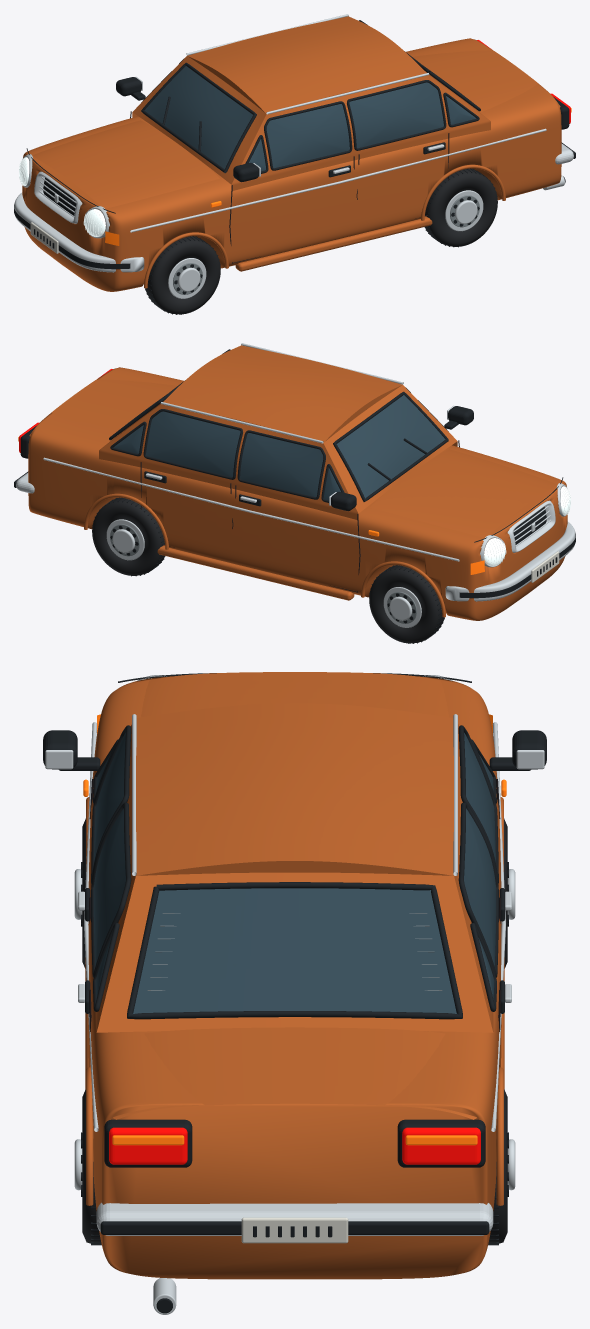
Rendered from moskvich.glb.
The picture shows the model from 3 angles, top to bottom: view 1: azimuth 30°, elevation 25°; view 2: azimuth 150°, elevation 25°; view 3: azimuth 270°, elevation 25°; orthographic projection. The views are drawn at different scales.
Parts seen in each view (by area): view 1: Body_Paint_moskvich, Body_Curved smoked glass.008, Body_Black trim.008, Body_Machined aluminium.008, Wheel_FR_Tyre.008, Wheel_RR_Tyre.008, StockBumpers_Machined aluminium.008, StockSkirts_Paint_moskvich, StockFenders_Paint_moskvich, Wheel_FR_Machined aluminium.008, Wheel_RR_Machined aluminium.008, Body_Prismatic headlight glass.008 (+1 smaller); view 2: Body_Paint_moskvich, Body_Curved smoked glass.008, Body_Black trim.008, Body_Machined aluminium.008, Wheel_FL_Tyre.008, Wheel_RL_Tyre.008, StockBumpers_Machined aluminium.008, StockSkirts_Paint_moskvich, StockFenders_Paint_moskvich, Wheel_FL_Machined aluminium.008, Wheel_RL_Machined aluminium.008, Body_Prismatic headlight glass.008 (+1 smaller); view 3: Body_Paint_moskvich, Body_Curved smoked glass.008, Body_Black trim.008, StockBumpers_Machined aluminium.008, Body_Machined aluminium.008, Body_Red lens.008, StockBumpers_Black trim.008, Body_Numberplate.008, StockFenders_Paint_moskvich, Body_Amber lens.008, Wheel_RR_Tyre.008, Wheel_RL_Tyre.008.
Boxes of the visible parts, x1=… form: Body_Paint_moskvich: x1=22, y1=16, x2=561, y2=291; Body_Curved smoked glass.008: x1=144, y1=66, x2=476, y2=171; Body_Black trim.008: x1=26, y1=20, x2=569, y2=248; Body_Machined aluminium.008: x1=22, y1=14, x2=564, y2=238; Wheel_FR_Tyre.008: x1=145, y1=236, x2=220, y2=314; Wheel_RR_Tyre.008: x1=425, y1=168, x2=497, y2=246; StockBumpers_Machined aluminium.008: x1=14, y1=143, x2=573, y2=272; StockSkirts_Paint_moskvich: x1=235, y1=216, x2=432, y2=271; StockFenders_Paint_moskvich: x1=144, y1=164, x2=505, y2=288; Wheel_FR_Machined aluminium.008: x1=168, y1=258, x2=206, y2=298; Wheel_RR_Machined aluminium.008: x1=445, y1=190, x2=483, y2=231; Body_Prismatic headlight glass.008: x1=19, y1=157, x2=105, y2=236; Body_Paint_moskvich: x1=28, y1=345, x2=567, y2=620; Body_Curved smoked glass.008: x1=113, y1=395, x2=445, y2=500; Body_Black trim.008: x1=20, y1=349, x2=563, y2=576; Body_Machined aluminium.008: x1=43, y1=343, x2=567, y2=567; Wheel_FL_Tyre.008: x1=369, y1=565, x2=444, y2=643; Wheel_RL_Tyre.008: x1=92, y1=497, x2=164, y2=575; StockBumpers_Machined aluminium.008: x1=16, y1=472, x2=575, y2=601; StockSkirts_Paint_moskvich: x1=157, y1=545, x2=354, y2=600; StockFenders_Paint_moskvich: x1=84, y1=493, x2=445, y2=617; Wheel_FL_Machined aluminium.008: x1=383, y1=587, x2=421, y2=627; Wheel_RL_Machined aluminium.008: x1=106, y1=519, x2=144, y2=560; Body_Prismatic headlight glass.008: x1=484, y1=486, x2=570, y2=565; Body_Paint_moskvich: x1=88, y1=672, x2=501, y2=1279; Body_Curved smoked glass.008: x1=93, y1=732, x2=496, y2=1013; Body_Black trim.008: x1=43, y1=673, x2=546, y2=1313; StockBumpers_Machined aluminium.008: x1=96, y1=1202, x2=493, y2=1235; Body_Machined aluminium.008: x1=45, y1=675, x2=544, y2=1314; Body_Red lens.008: x1=109, y1=1127, x2=480, y2=1164; StockBumpers_Black trim.008: x1=100, y1=1221, x2=489, y2=1234; Body_Numberplate.008: x1=241, y1=1217, x2=348, y2=1243; StockFenders_Paint_moskvich: x1=86, y1=797, x2=503, y2=1205; Body_Amber lens.008: x1=83, y1=714, x2=506, y2=1145; Wheel_RR_Tyre.008: x1=82, y1=1089, x2=101, y2=1244; Wheel_RL_Tyre.008: x1=488, y1=1089, x2=507, y2=1244.
Bounding box in the file's own units: 4.23 × 1.48 × 1.89.
